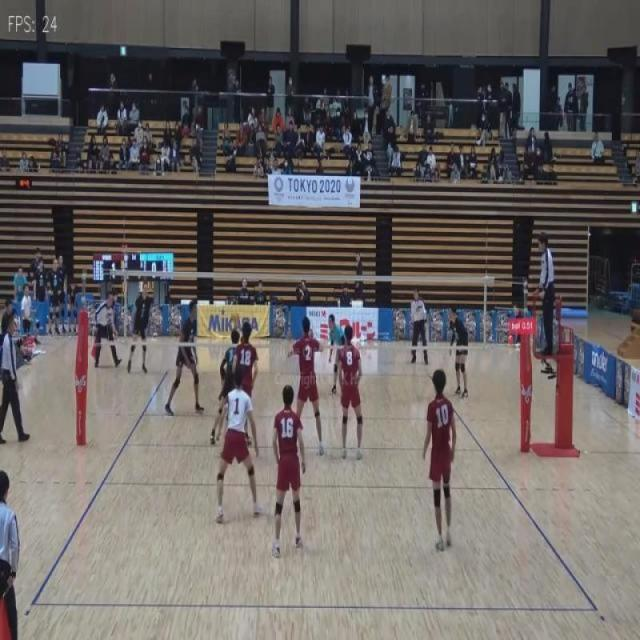volleyball: (230, 310, 239, 324)
